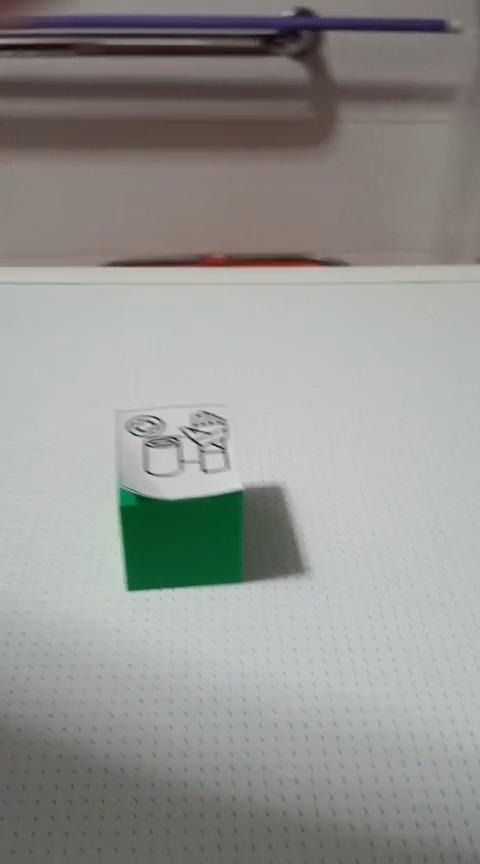Bandages: (115, 404, 246, 591)
